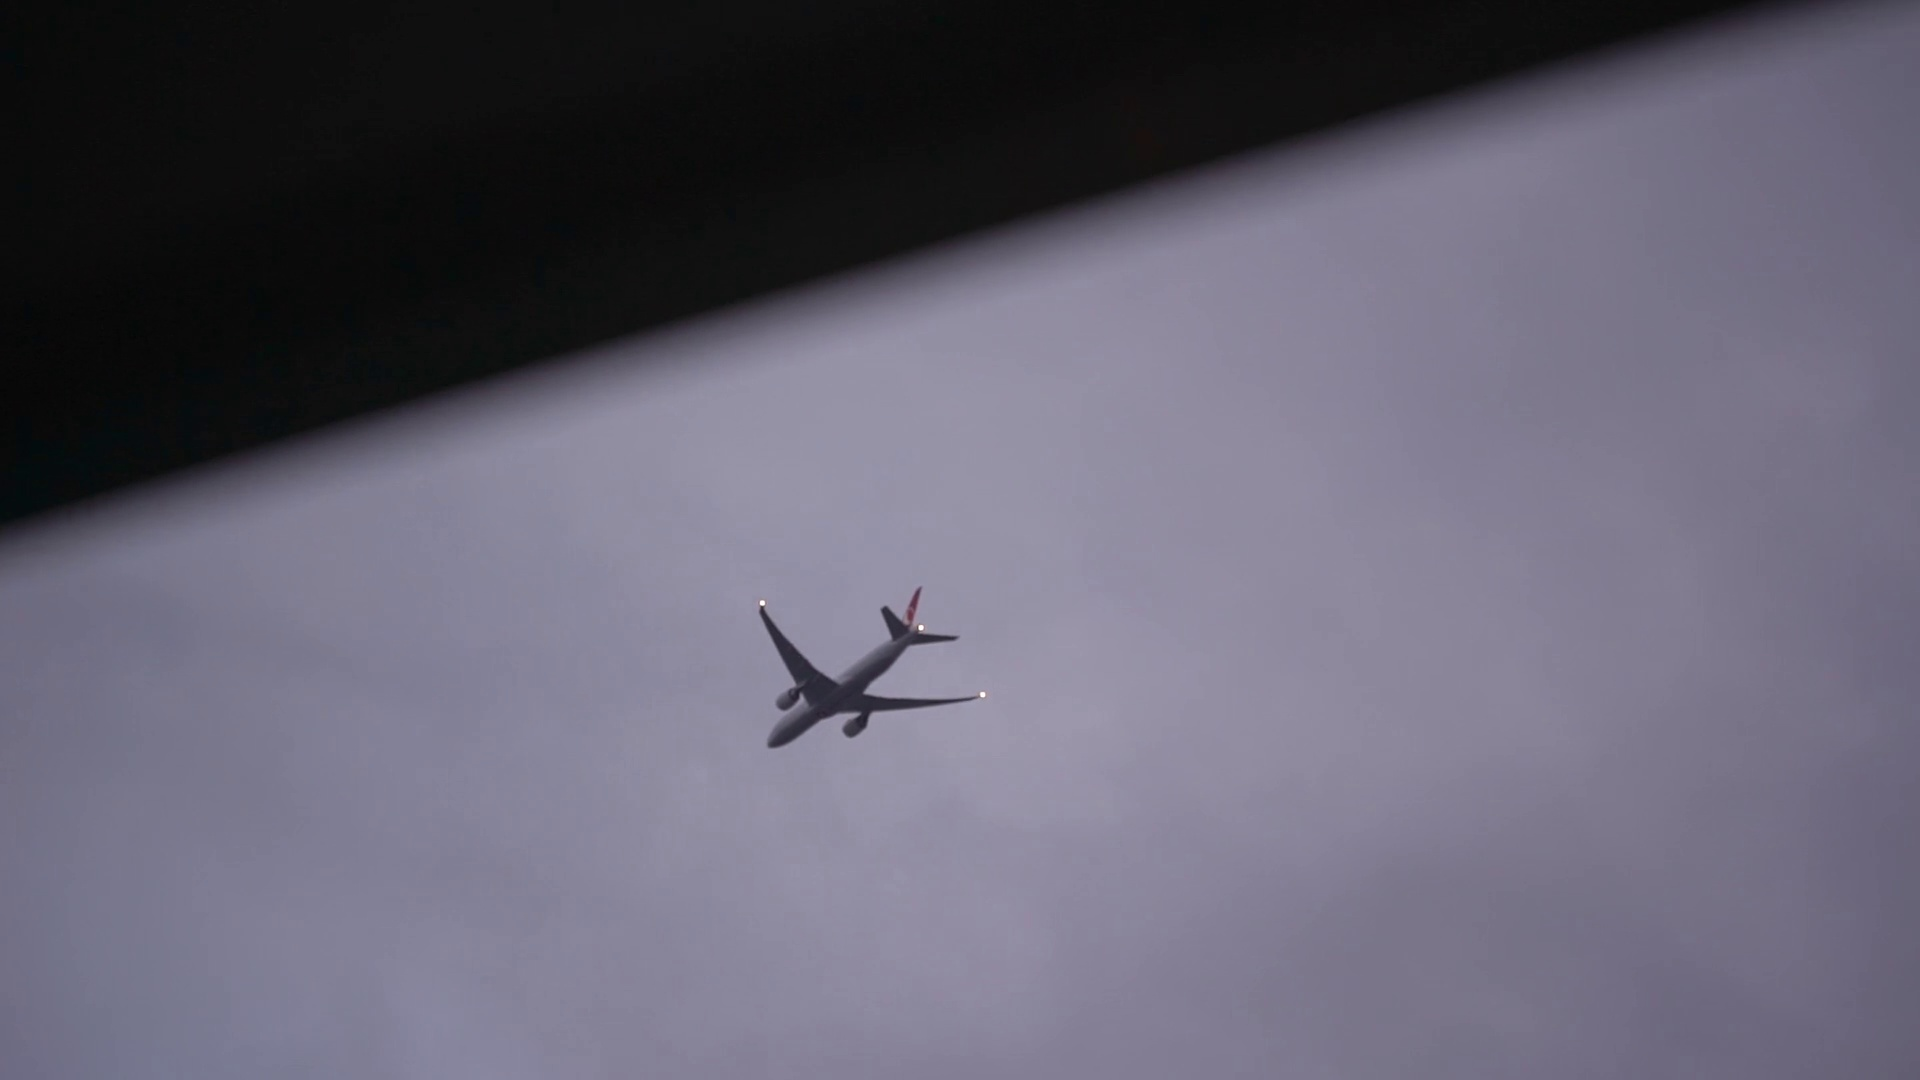plane: (754, 584, 985, 749)
